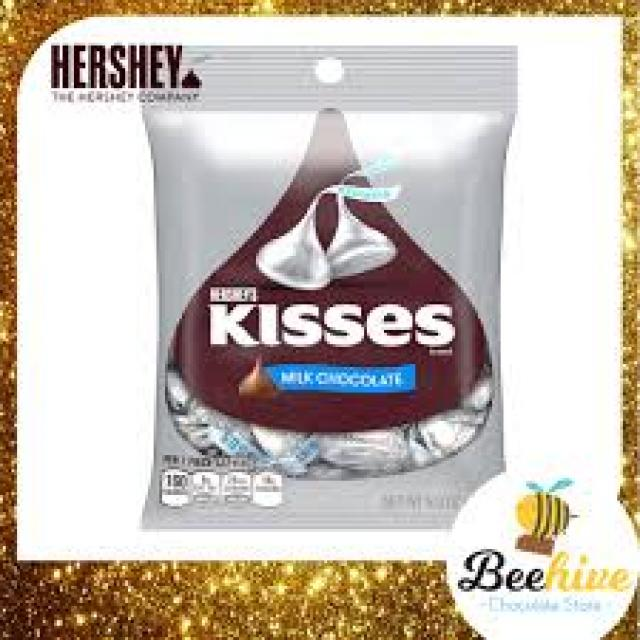kisses: (251, 195, 338, 292), (331, 190, 393, 289)
